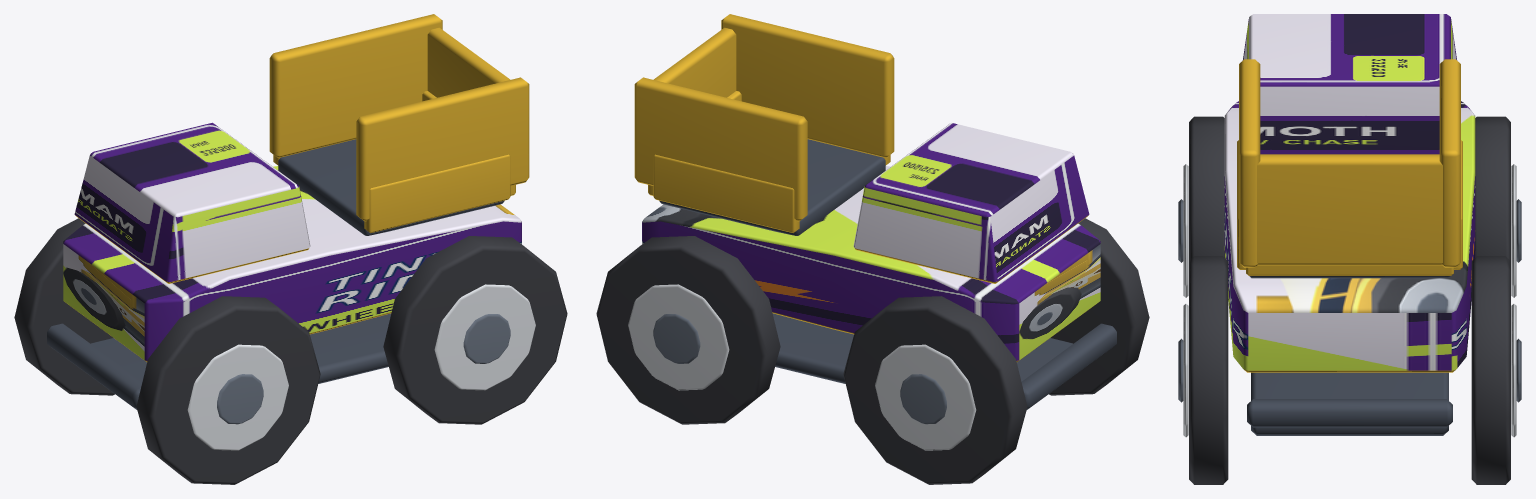
The picture shows the model from 3 angles, left to right: view 1: azimuth 30°, elevation 25°; view 2: azimuth 150°, elevation 25°; view 3: azimuth 270°, elevation 25°; orthographic projection. The views are drawn at different scales.
Visible parts, largest first — view 1: BW-04_connected_shell, BW-04_cabin, Tire, Tire.002, raised tipper wall.001, raised tipper wall, Tire.001, cargo side, Rim, Rim.002, underbody, cargo floor (+4 smaller); view 2: BW-04_connected_shell, BW-04_cabin, Tire.001, Tire.003, raised tipper wall, raised tipper wall.001, Tire, cargo side.001, Rim.001, Rim.003, underbody, cargo floor (+4 smaller); view 3: BW-04_connected_shell, BW-04_cabin, raised tail gate, Tire.002, Tire.003, underbody, rear bumper, Tire, Tire.001, raised tipper wall, raised tipper wall.001, cargo tail (+7 smaller).
Part boxes in pixels (<box>): BW-04_connected_shell: <box>63,166,521,361</box>; BW-04_cabin: <box>74,122,310,283</box>; Tire: <box>136,296,320,484</box>; Tire.002: <box>383,236,567,424</box>; raised tipper wall.001: <box>269,14,442,157</box>; raised tipper wall: <box>356,77,529,221</box>; Tire.001: <box>14,218,114,395</box>; cargo side: <box>364,154,510,232</box>; Rim: <box>187,344,288,450</box>; Rim.002: <box>434,284,535,390</box>; underbody: <box>91,313,391,383</box>; cargo floor: <box>278,139,504,235</box>; BW-04_connected_shell: <box>642,166,1100,361</box>; BW-04_cabin: <box>853,122,1089,283</box>; Tire.001: <box>843,296,1027,484</box>; Tire.003: <box>596,236,780,424</box>; raised tipper wall: <box>721,14,894,157</box>; raised tipper wall.001: <box>634,77,807,221</box>; Tire: <box>1049,218,1149,395</box>; cargo side.001: <box>653,154,799,232</box>; Rim.001: <box>875,344,976,450</box>; Rim.003: <box>628,284,729,390</box>; underbody: <box>772,313,1072,383</box>; cargo floor: <box>659,139,885,235</box>; BW-04_connected_shell: <box>1224,101,1475,372</box>; BW-04_cabin: <box>1242,14,1457,154</box>; raised tail gate: <box>1257,154,1442,265</box>; Tire.002: <box>1189,256,1228,484</box>; Tire.003: <box>1471,256,1510,484</box>; underbody: <box>1251,372,1448,435</box>; rear bumper: <box>1247,399,1452,427</box>; Tire: <box>1189,116,1224,260</box>; Tire.001: <box>1475,116,1510,260</box>; raised tipper wall: <box>1239,59,1260,267</box>; raised tipper wall.001: <box>1439,59,1460,267</box>; cargo tail: <box>1246,265,1453,275</box>.
Size of the model in its own units: 370 by 264 by 227.
